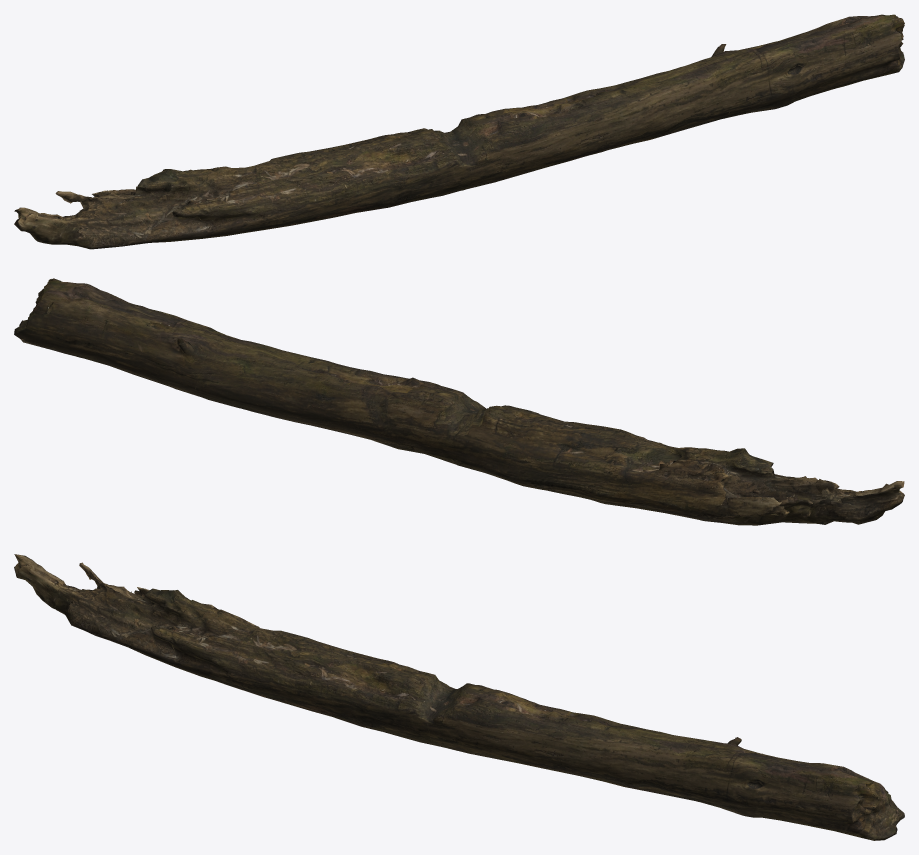
File: dead_tree_trunk.glb
The picture shows the model from 3 angles, top to bottom: view 1: azimuth 30°, elevation 25°; view 2: azimuth 150°, elevation 25°; view 3: azimuth 330°, elevation 25°; orthographic projection.
Parts seen in each view (by area): view 1: dead_tree_trunk; view 2: dead_tree_trunk; view 3: dead_tree_trunk.
Part boxes in pixels (x1,y1,x2,y2): dead_tree_trunk: (14,14,904,249); dead_tree_trunk: (14,278,904,525); dead_tree_trunk: (14,554,904,840).
Bounding box in the file's own units: 3.05 × 0.2864 × 0.2759.
1 material, 1 textured.
